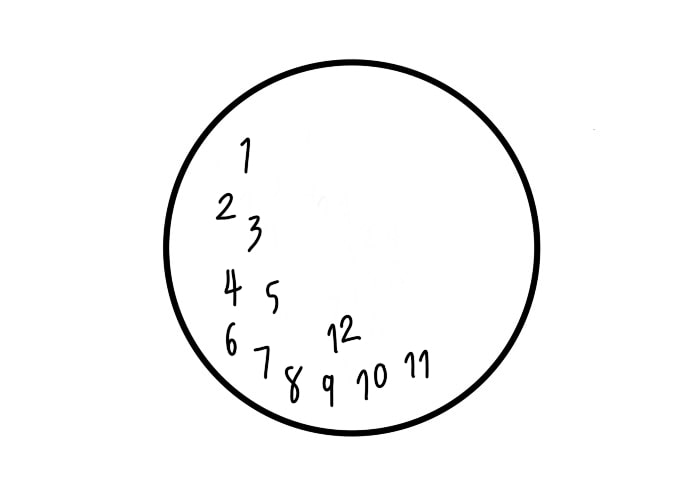eight: (283, 363, 304, 404)
eleven: (403, 348, 430, 381)
five: (264, 276, 280, 314)
four: (222, 267, 243, 308)
nine: (320, 371, 337, 409)
one: (236, 136, 252, 176)
seven: (249, 344, 273, 380)
six: (222, 320, 238, 358)
ten: (353, 361, 388, 401)
three: (245, 209, 263, 255)
twelve: (323, 313, 363, 354)
two: (214, 191, 236, 223)
